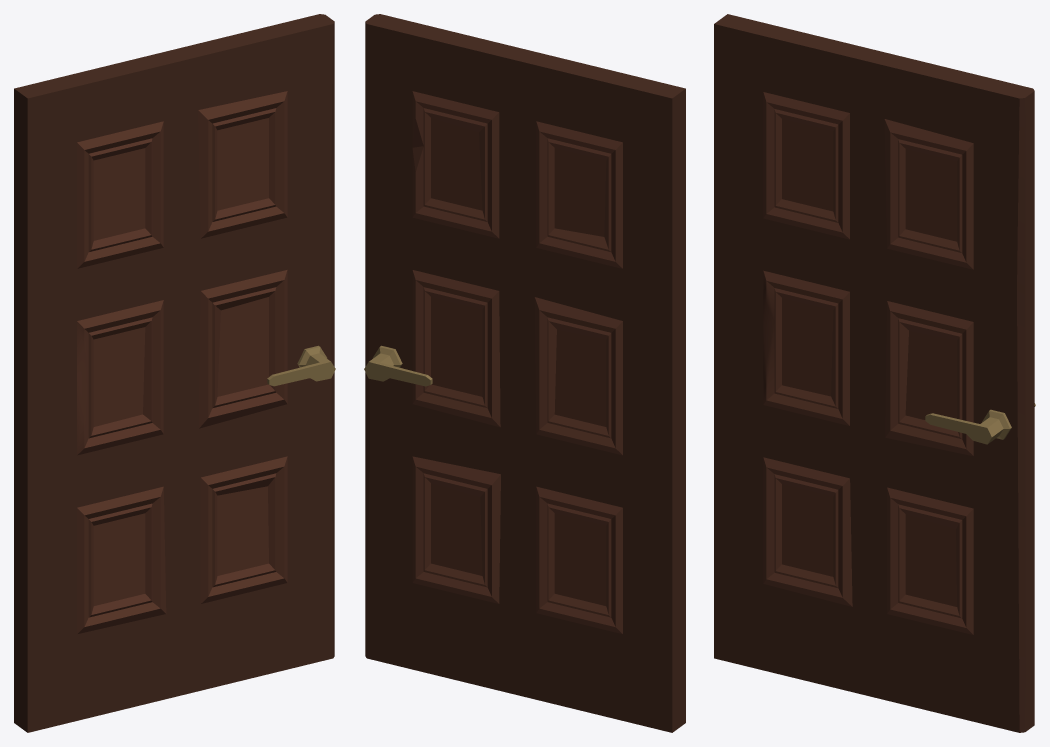
File: SM_Bld_Door_05.fbx
The picture shows the model from 3 angles, left to right: view 1: azimuth 30°, elevation 25°; view 2: azimuth 150°, elevation 25°; view 3: azimuth 330°, elevation 25°; orthographic projection.
Visible parts, largest first — view 1: SM_Bld_Door_05; view 2: SM_Bld_Door_05; view 3: SM_Bld_Door_05.
Boxes of the visible parts, box(x1,y1,x2,y2) form: SM_Bld_Door_05: box(14, 14, 335, 732); SM_Bld_Door_05: box(364, 14, 685, 732); SM_Bld_Door_05: box(714, 14, 1035, 732).
Size of the model in its own units: 100 by 197 by 24.73.
